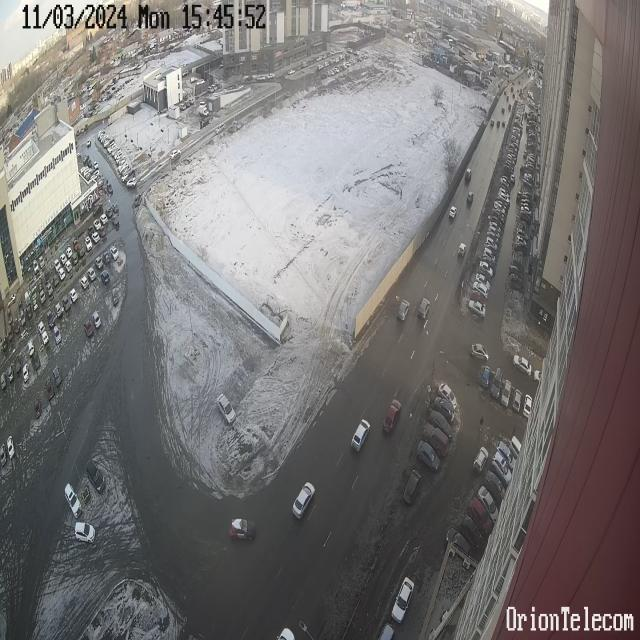car: (391, 575, 416, 626), (468, 496, 494, 540), (445, 523, 472, 564), (457, 513, 484, 553), (422, 421, 449, 460), (490, 448, 513, 491), (292, 480, 316, 520), (416, 438, 441, 476), (427, 409, 454, 444), (476, 484, 499, 524), (350, 414, 371, 456), (382, 396, 403, 436), (402, 469, 422, 510), (228, 516, 257, 544), (494, 439, 516, 474), (484, 468, 505, 504), (85, 459, 106, 494), (433, 393, 455, 426), (216, 393, 237, 427), (65, 482, 82, 522), (438, 381, 458, 415), (73, 521, 96, 548), (470, 338, 490, 365), (490, 365, 504, 403), (472, 446, 488, 478), (514, 353, 532, 379), (468, 298, 486, 321), (396, 298, 411, 324), (416, 297, 431, 322), (500, 379, 512, 410), (480, 362, 492, 390), (472, 281, 488, 301), (521, 393, 533, 419), (511, 388, 522, 415), (457, 241, 468, 256), (449, 204, 457, 219)
